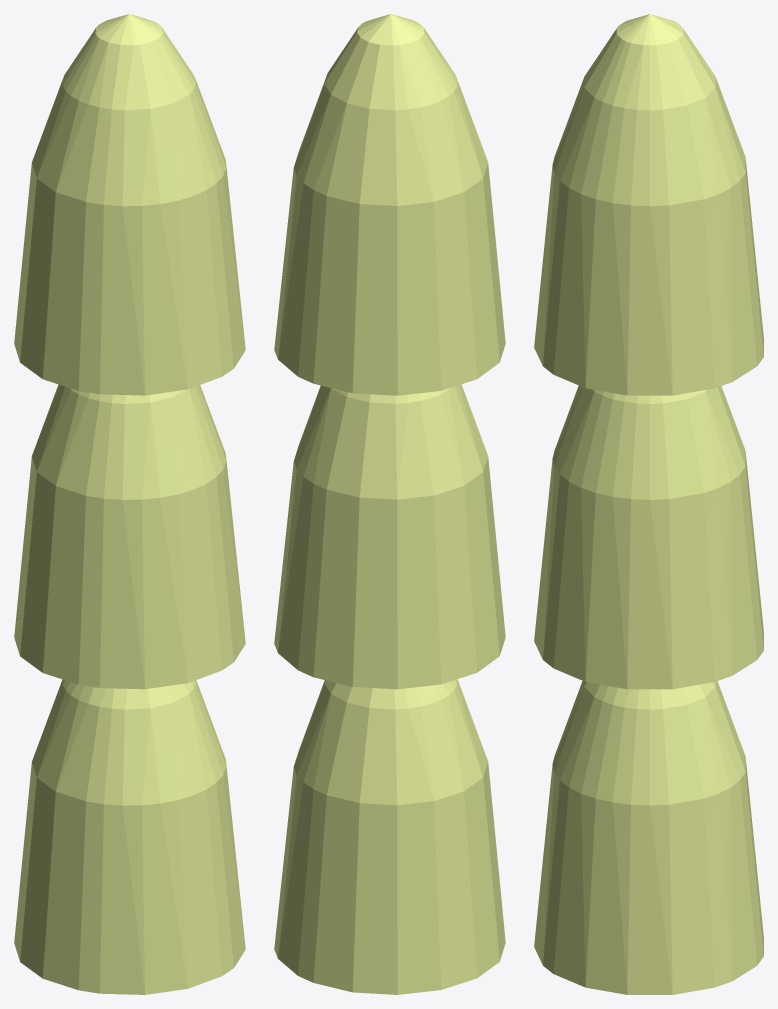
File: lucio_sonic.obj
3 views of the same model, side by side, from view 1: azimuth 30°, elevation 25°; view 2: azimuth 150°, elevation 25°; view 3: azimuth 270°, elevation 25° (orthographic).
Parts seen in each view (by area): view 1: Grid_Grid.001; view 2: Grid_Grid.001; view 3: Grid_Grid.001.
Boxes of the visible parts, left/top/right/bottom form: Grid_Grid.001: left=14, top=14, right=245, bottom=994; Grid_Grid.001: left=274, top=14, right=505, bottom=994; Grid_Grid.001: left=534, top=14, right=763, bottom=994.
Size of the model in its own units: 0.4917 by 2.22 by 0.4965.
